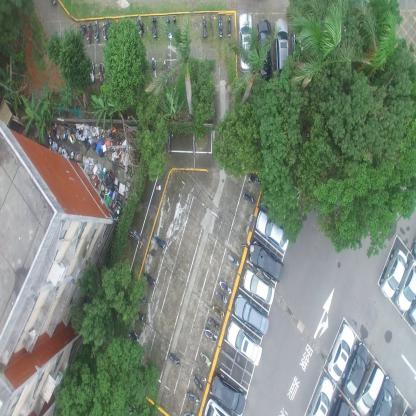car: (226, 320, 263, 369), (340, 341, 370, 401), (211, 370, 247, 416), (354, 360, 384, 415), (233, 294, 270, 338), (327, 324, 355, 382), (249, 240, 284, 284), (255, 207, 289, 252), (380, 248, 408, 301), (242, 268, 276, 307), (394, 258, 416, 312), (369, 374, 397, 415), (256, 18, 273, 84), (306, 377, 335, 415), (238, 10, 253, 74), (274, 16, 290, 75), (291, 23, 306, 78), (203, 397, 231, 415), (327, 394, 350, 415)
